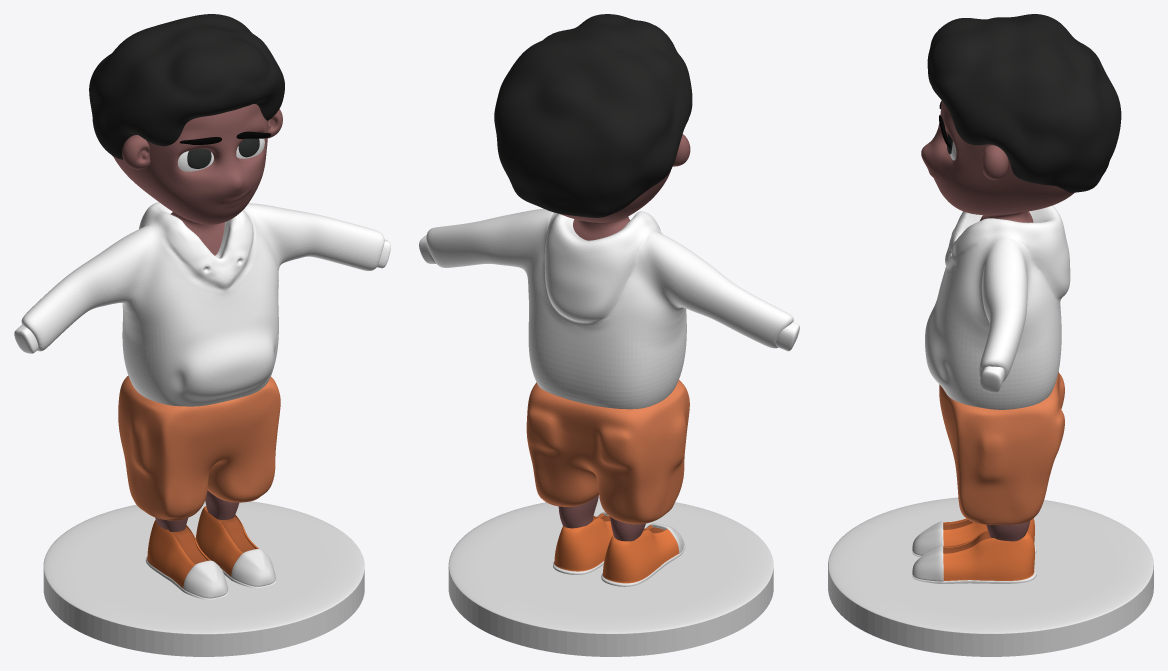
The model's file is afore-personaje-1.glb.
3 views of the same model, side by side, from view 1: azimuth 30°, elevation 25°; view 2: azimuth 150°, elevation 25°; view 3: azimuth 270°, elevation 25° (orthographic).
Visible parts, largest first — view 1: Cube.005, Cylinder, Cube.007, Cube.009, Test, Cube.004, Cube.001, Cube.006, Cube.002; view 2: Cube.005, Cylinder, Cube.007, Cube.009, Cube.004, Test, Cube.002; view 3: Cylinder, Cube.007, Cube.005, Cube.009, Test, Cube.004, Cube.001, Cube.002.
Part boxes in pixels (left/top/right/bottom): Cube.005: left=21, top=202, right=384, bottom=406; Cylinder: left=43, top=501, right=364, bottom=656; Cube.007: left=89, top=14, right=284, bottom=159; Cube.009: left=118, top=376, right=280, bottom=520; Test: left=113, top=104, right=268, bottom=531; Cube.004: left=145, top=506, right=276, bottom=599; Cube.001: left=122, top=109, right=282, bottom=169; Cube.006: left=187, top=138, right=259, bottom=168; Cube.002: left=14, top=239, right=390, bottom=353; Cube.005: left=426, top=208, right=793, bottom=409; Cylinder: left=448, top=497, right=773, bottom=656; Cube.007: left=494, top=14, right=692, bottom=217; Cube.009: left=526, top=380, right=689, bottom=524; Cube.004: left=553, top=511, right=685, bottom=586; Test: left=558, top=170, right=670, bottom=541; Cube.002: left=419, top=235, right=799, bottom=351; Cylinder: left=828, top=497, right=1153, bottom=656; Cube.007: left=927, top=14, right=1121, bottom=192; Cube.005: left=925, top=205, right=1070, bottom=409; Cube.009: left=939, top=371, right=1064, bottom=524; Test: left=921, top=100, right=1074, bottom=541; Cube.004: left=912, top=518, right=1036, bottom=583; Cube.001: left=982, top=145, right=1008, bottom=180; Cube.002: left=980, top=366, right=1004, bottom=392.
Size of the model in its own units: 1.29 by 1.84 by 0.9656.
